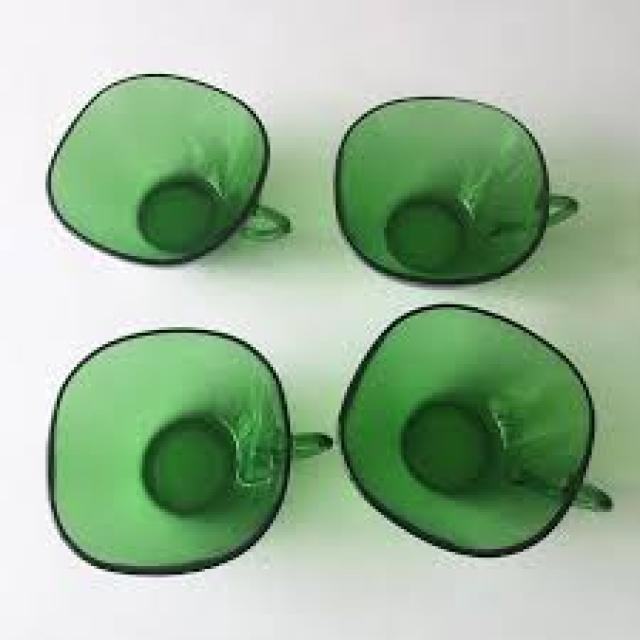glass: (339, 302, 612, 561), (45, 327, 330, 572), (333, 94, 580, 284), (40, 74, 287, 264)
